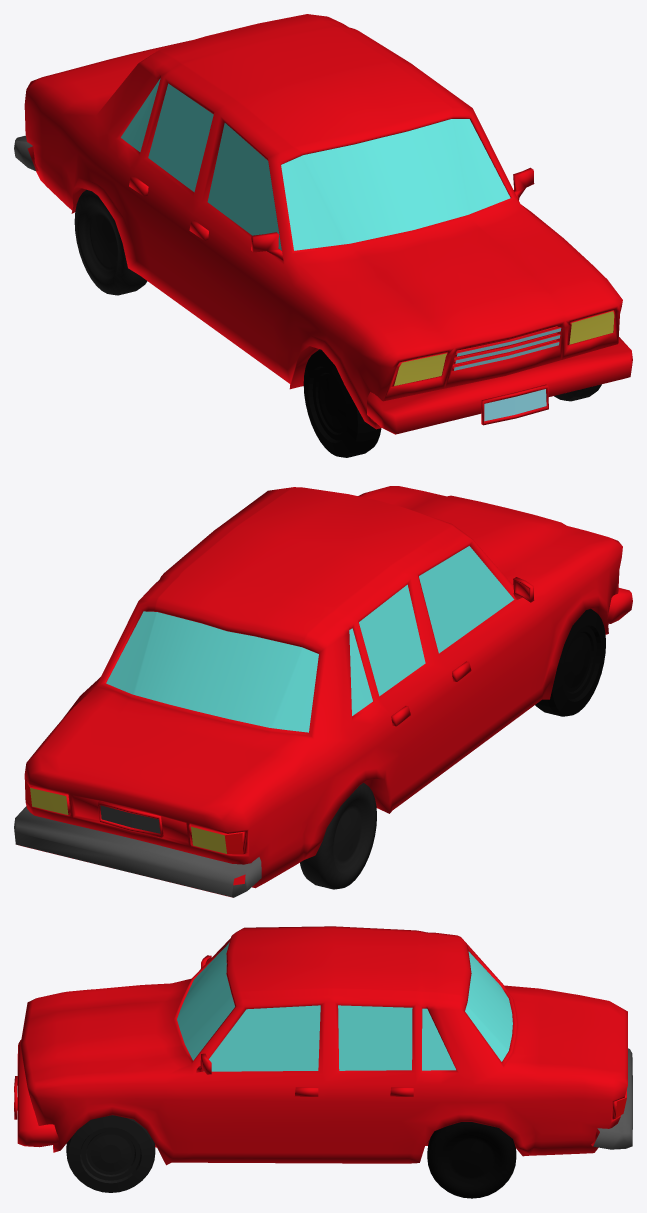
File: normalcar.fbx
3 renders of one model, top to bottom at view 1: azimuth 30°, elevation 25°; view 2: azimuth 150°, elevation 25°; view 3: azimuth 270°, elevation 25°, orthographic. The views are drawn at different scales.
Visible parts, largest first — view 1: Vaz Wheel FL, Vaz Wheel FL.001, Vaz Wheel FL.003; view 2: Vaz Wheel FL, Vaz Wheel FL.001; view 3: Vaz Wheel FL, Vaz Wheel FL.002.
Part boxes in pixels (<box>): Vaz Wheel FL: <box>14,14,632,434</box>; Vaz Wheel FL.001: <box>303,349,381,457</box>; Vaz Wheel FL.003: <box>454,328,561,421</box>; Vaz Wheel FL: <box>14,486,632,897</box>; Vaz Wheel FL.001: <box>535,609,605,716</box>; Vaz Wheel FL: <box>14,926,632,1198</box>; Vaz Wheel FL.002: <box>66,1115,155,1192</box>.
Bounding box in the file's own units: 413 × 350 × 1000.
